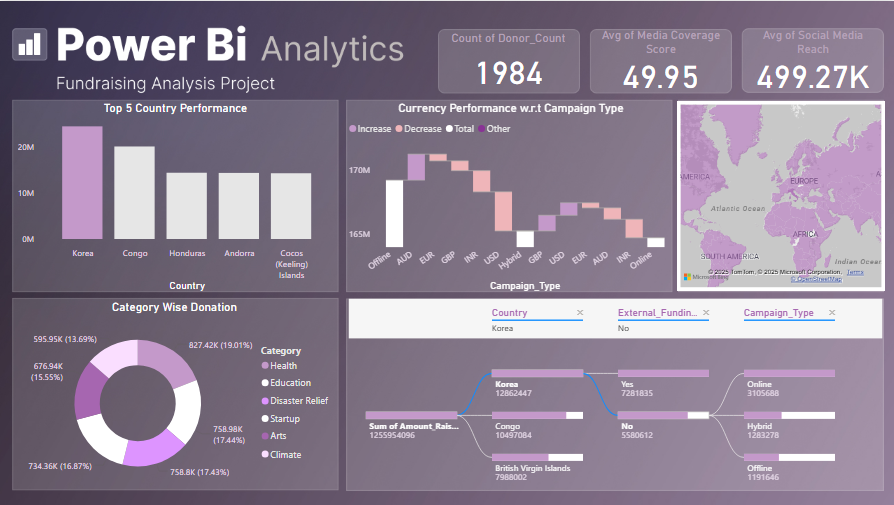

The dashboard page shown, as its layout file describes it:
{"tool":"powerbi","page":{"name":"FR DASHBOARD","canvas":[1280,720],"ordinal":0},"visuals":[{"type":"card","title":"Count of Donor_Count","fields":{"Values":["Count(Fund Raise Analysis.Donor_Count)"]},"box":[625.7,42.9,204.3,88.6],"z":0},{"type":"card","title":"Avg of Media Coverage Score","fields":{"Values":["Avg(Fund Raise Analysis.Media_Coverage_Score)"]},"box":[842.9,38.6,205.7,91.4],"z":1000},{"type":"card","title":"Avg of Social Media Reach","fields":{"Values":["Avg(Fund Raise Analysis.Social_Media_Reach)"]},"box":[1061.4,38.6,202.9,91.4],"z":2000},{"type":"filledMap","fields":{"Category":["Fund Raise Analysis.Country"]},"box":[968.6,142.9,297.1,271.4],"z":3000},{"type":"columnChart","title":"Top 5 Country Performance","fields":{"Category":["Fund Raise Analysis.Country"],"Y":["Sum(Fund Raise Analysis.Fundraising_Goal_USD)"]},"box":[21.4,142.9,461.4,277.1],"z":4000},{"type":"donutChart","title":"Category Wise Donation","fields":{"Category":["Fund Raise Analysis.Category"],"Y":["Sum(Fund Raise Analysis.Average_Donation_USD)"]},"box":[17.1,427.1,467.1,275.7],"z":5000},{"type":"waterfallChart","title":"Currency Performance w.r.t Campaign Type","fields":{"Category":["Fund Raise Analysis.Campaign_Type"],"Y":["Sum(Fund Raise Analysis.Marketing_Spend_USD)"],"Breakdown":["Fund Raise Analysis.Currency"]},"box":[494.3,142.9,474.3,277.1],"z":6000},{"type":"decompositionTreeVisual","fields":{"ExplainBy":["Fund Raise Analysis.Country","Fund Raise Analysis.External_Funding_Received","Fund Raise Analysis.Campaign_Type"],"Analyze":["Sum(Fund Raise Analysis.Amount_Raised_USD)"]},"box":[494.3,420,772.9,282.9],"z":7000}]}

Visuals, with their boxes in screenshot pixels (x1, y1, x2, y2), scaled from the page's 1280x720 canvas onto the 894x505 screenshot:
"Count of Donor_Count" card: [x1=437, y1=30, x2=580, y2=92]
"Avg of Media Coverage Score" card: [x1=589, y1=27, x2=732, y2=91]
"Avg of Social Media Reach" card: [x1=741, y1=27, x2=883, y2=91]
filledMap - Fund Raise Analysis.Country: [x1=677, y1=100, x2=884, y2=291]
"Top 5 Country Performance" columnChart: [x1=15, y1=100, x2=337, y2=295]
"Category Wise Donation" donutChart: [x1=12, y1=300, x2=338, y2=493]
"Currency Performance w.r.t Campaign Type" waterfallChart: [x1=345, y1=100, x2=677, y2=295]
decompositionTreeVisual - Fund Raise Analysis.Country x Fund Raise Analysis.External_Funding_Received: [x1=345, y1=295, x2=885, y2=493]
